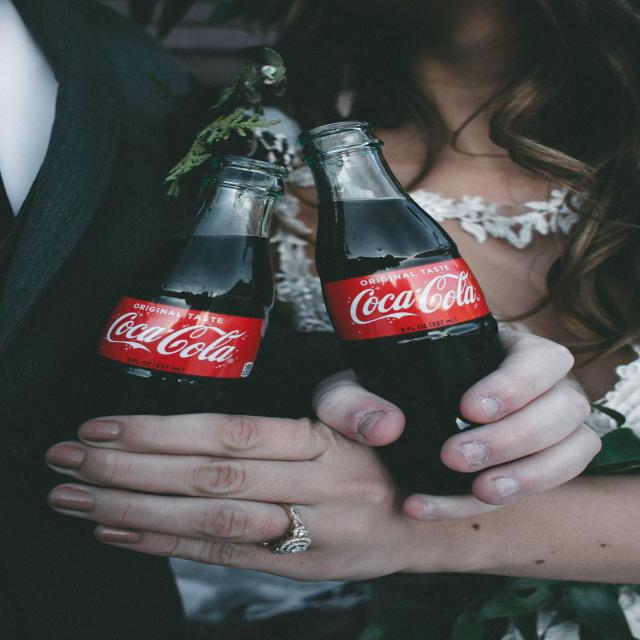coca-cola: (338, 272, 496, 328), (100, 310, 248, 367)
